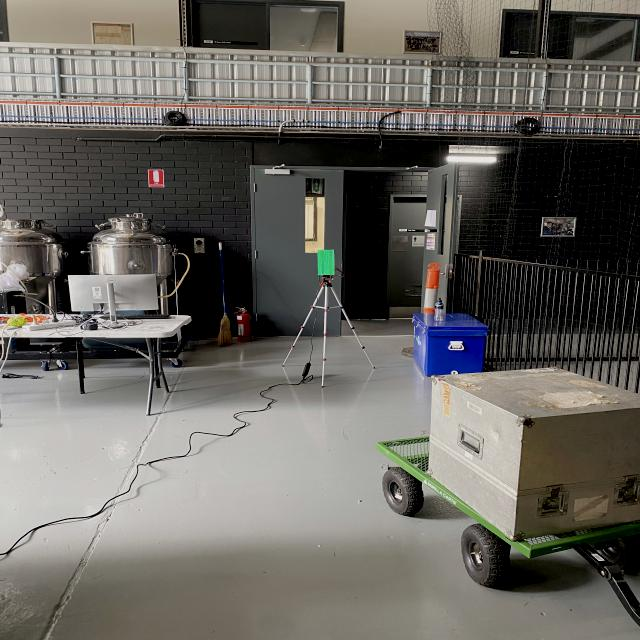matrix: (312, 244, 339, 282)
